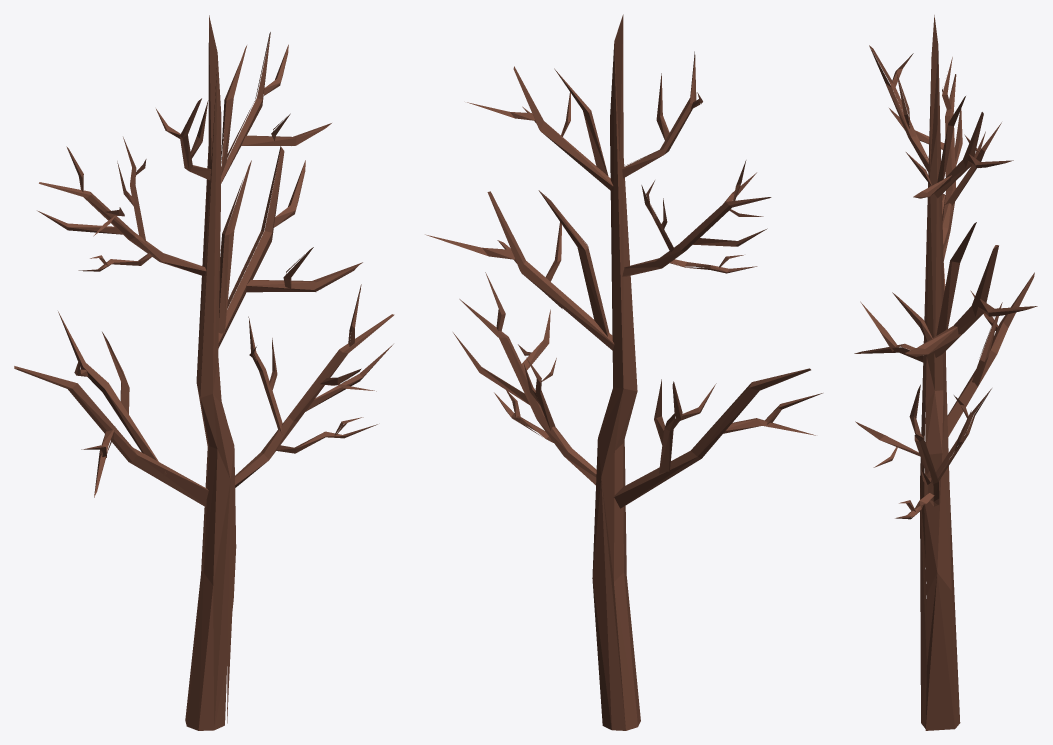
The model's file is estilizada-DeadTree_2.glb.
3 renders of one model, left to right at view 1: azimuth 30°, elevation 25°; view 2: azimuth 150°, elevation 25°; view 3: azimuth 270°, elevation 25°, orthographic.
Visible parts, largest first — view 1: DeadTree_2.001; view 2: DeadTree_2.001; view 3: DeadTree_2.001.
Boxes of the visible parts, x1,y1,x2,y2 form: DeadTree_2.001: [14, 15, 394, 730]; DeadTree_2.001: [425, 14, 822, 730]; DeadTree_2.001: [854, 15, 1037, 730].
Size of the model in its own units: 3.38 by 6.2 by 1.47.
